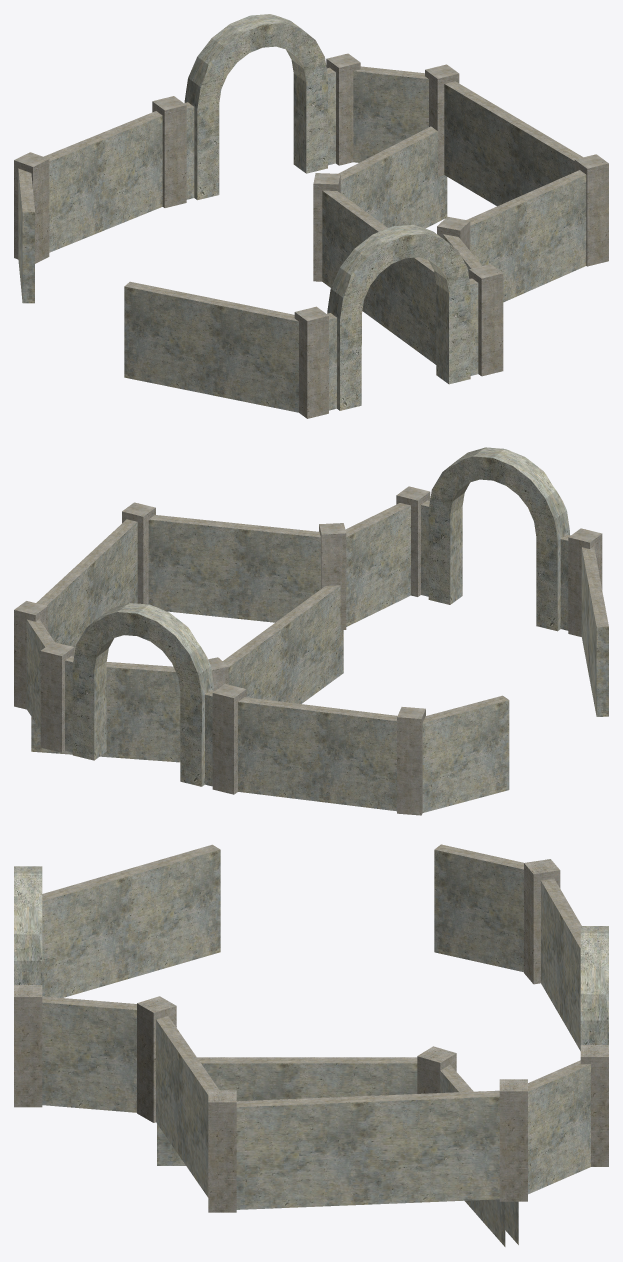
Rendered from poi_all_farm_32x32_s02_l0.fbx.
3 renders of one model, top to bottom at view 1: azimuth 30°, elevation 25°; view 2: azimuth 150°, elevation 25°; view 3: azimuth 270°, elevation 25°, orthographic. The views are drawn at different scales.
Visible parts, largest first — view 1: mesh_node; view 2: mesh_node; view 3: mesh_node.
Part boxes in pixels (x1,y1,x2,y2): mesh_node: [14, 14, 608, 418]; mesh_node: [14, 447, 608, 815]; mesh_node: [14, 844, 608, 1246].
Bounding box in the file's own units: 22.18 × 9 × 21.
